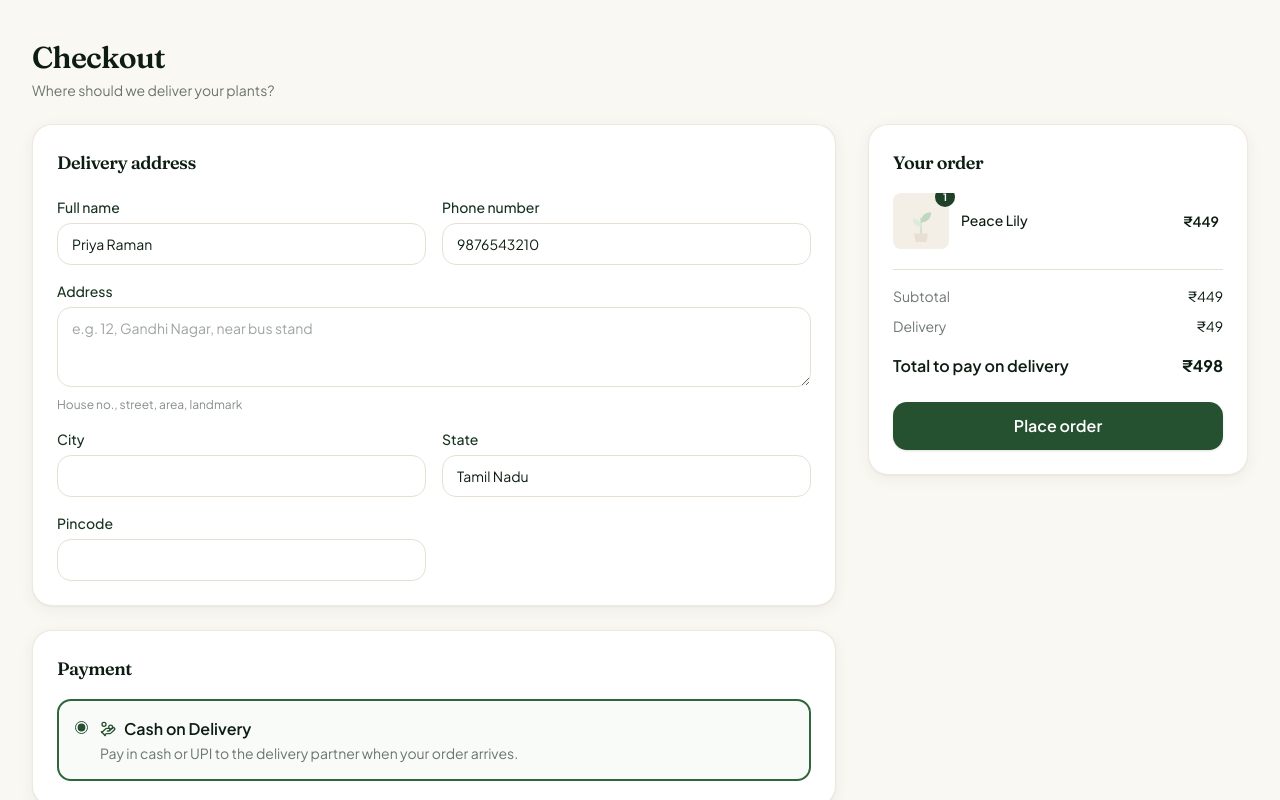
Test: checkout address › shows the server's field message under the right input
The image size is (1280, 800).
Step 1. Type "12, Gandhi Nagar, near bus stand" into the text box labelled "Address" → (434, 347), box 57,307 -> 811,387
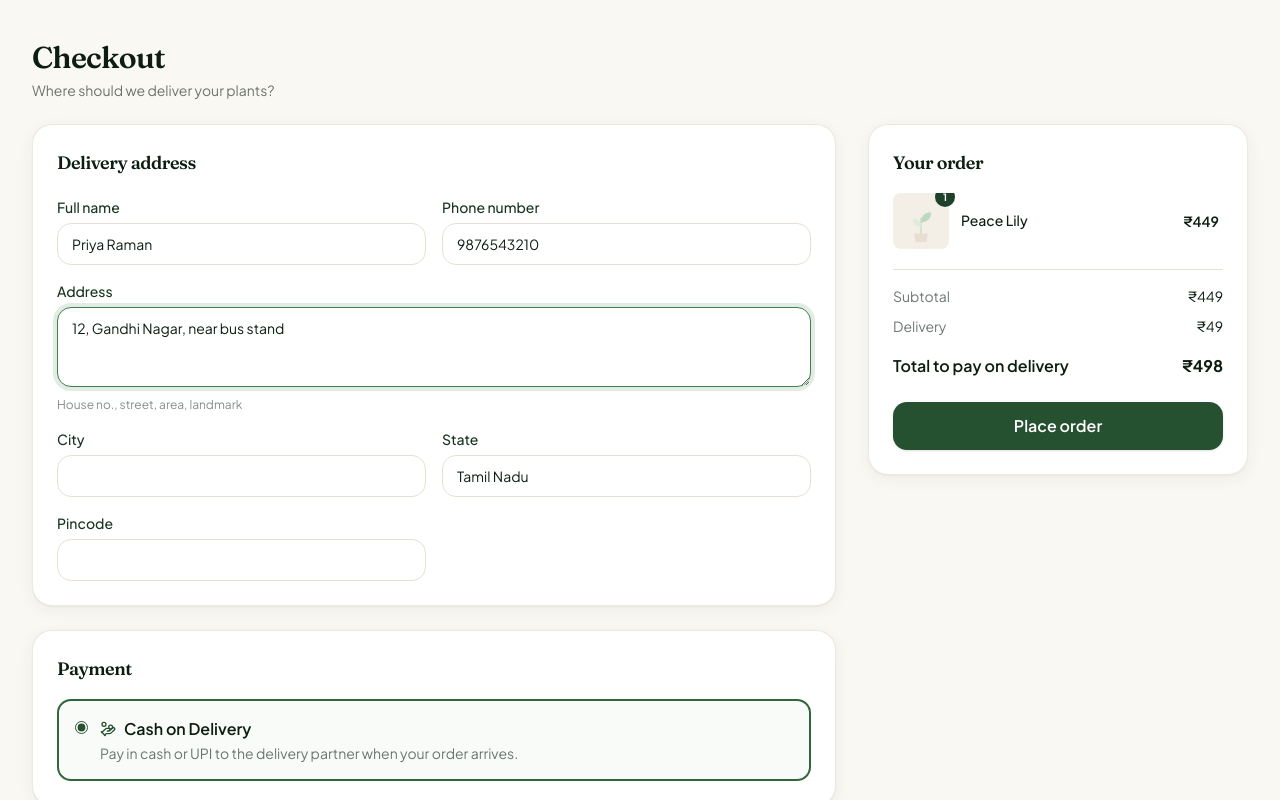
Step 2. Type "Coimbatore" into the field labelled "City" → (242, 476), box 57,455 -> 426,497
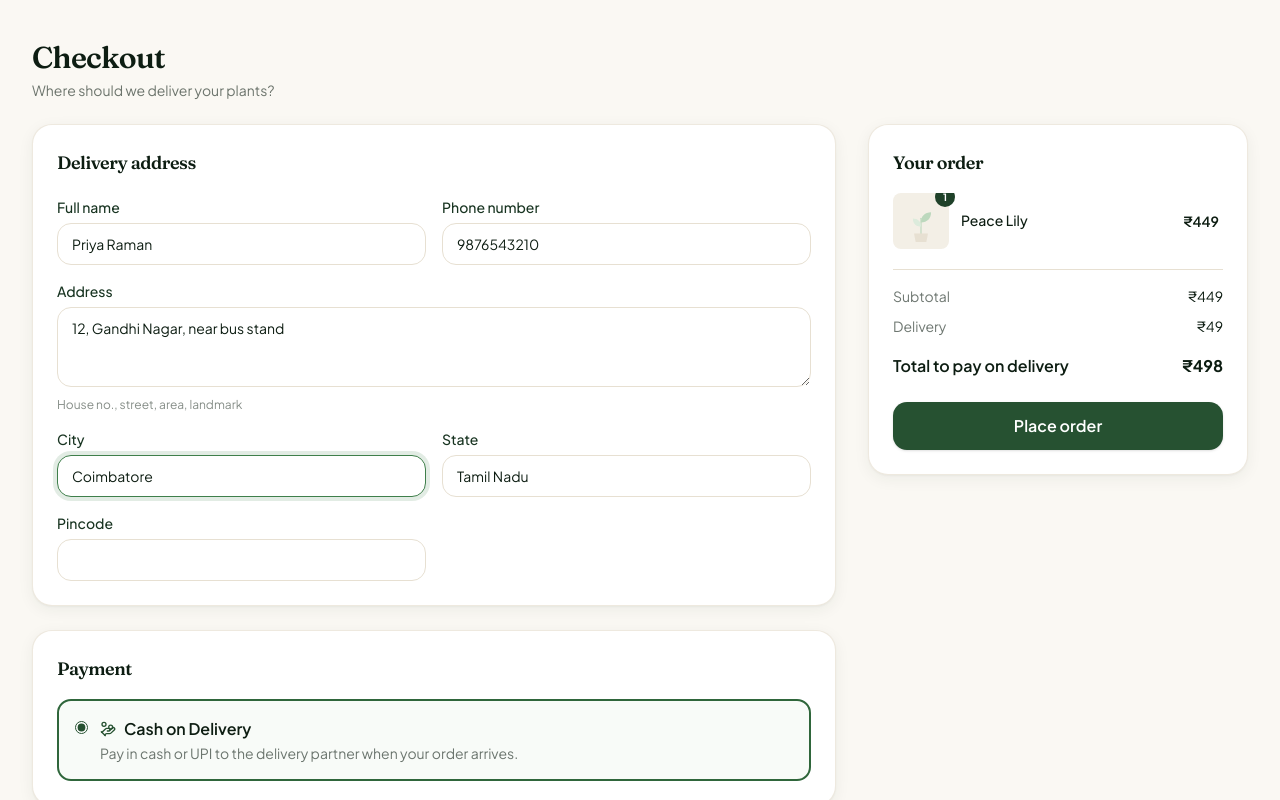
Step 3. Type "641046" into the field labelled "Pincode" → (242, 560), box 57,539 -> 426,581
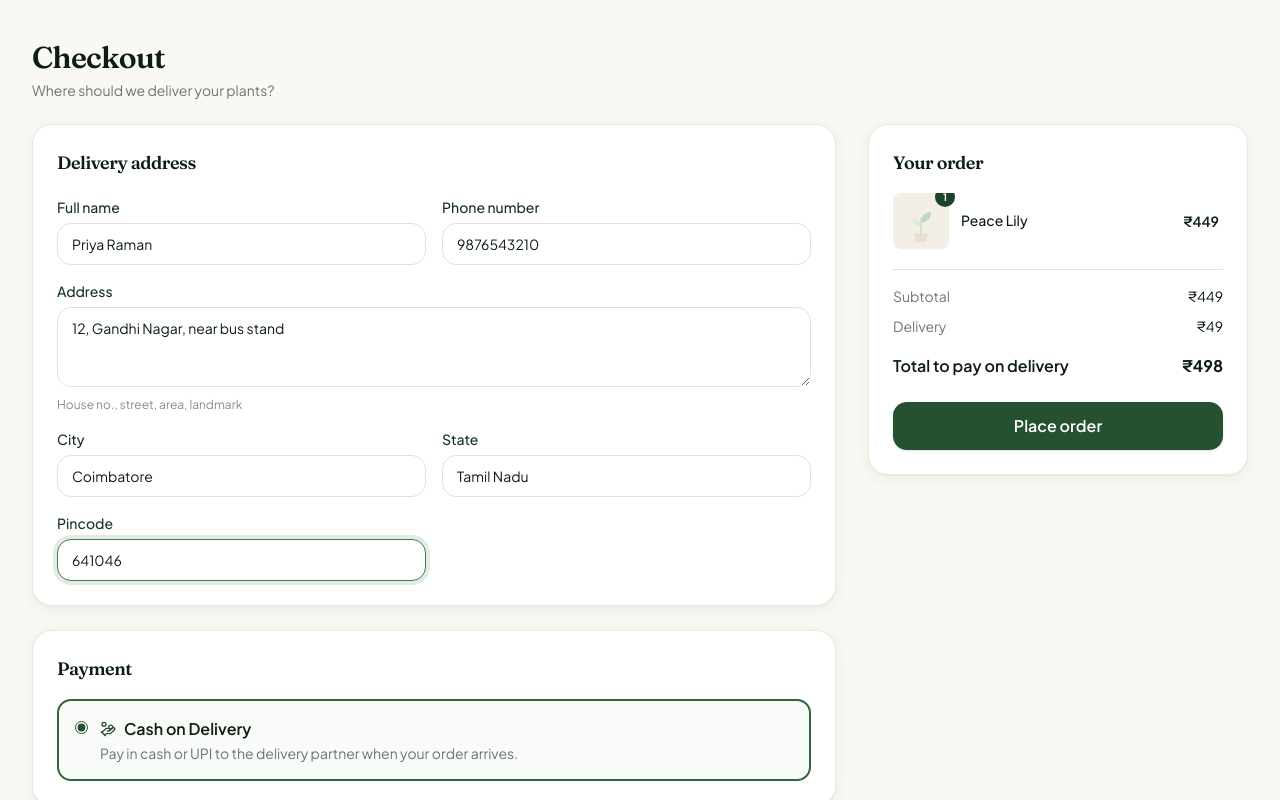
Step 4. Click the button "Place order" → (1058, 426), box 893,402 -> 1223,450
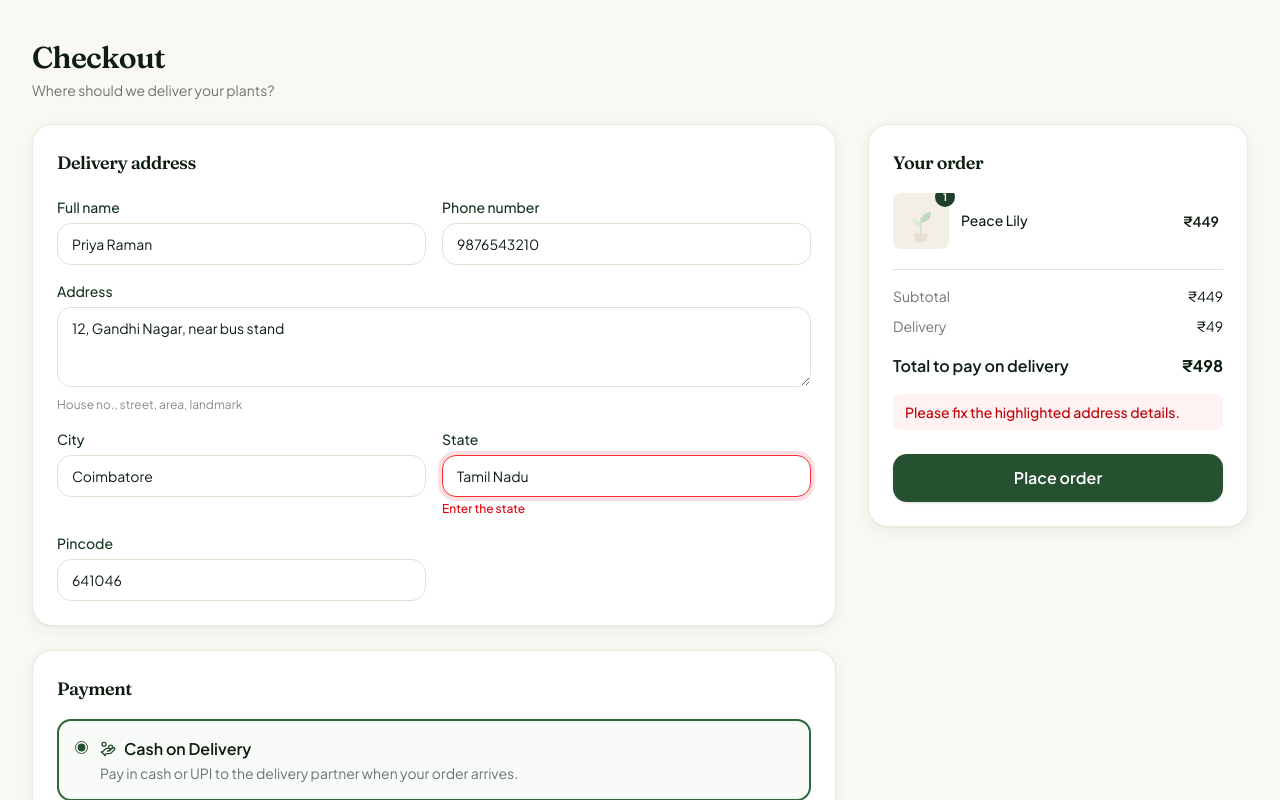
expect the field labelled "State" is marked as invalid: met, box 442,455 -> 811,497
